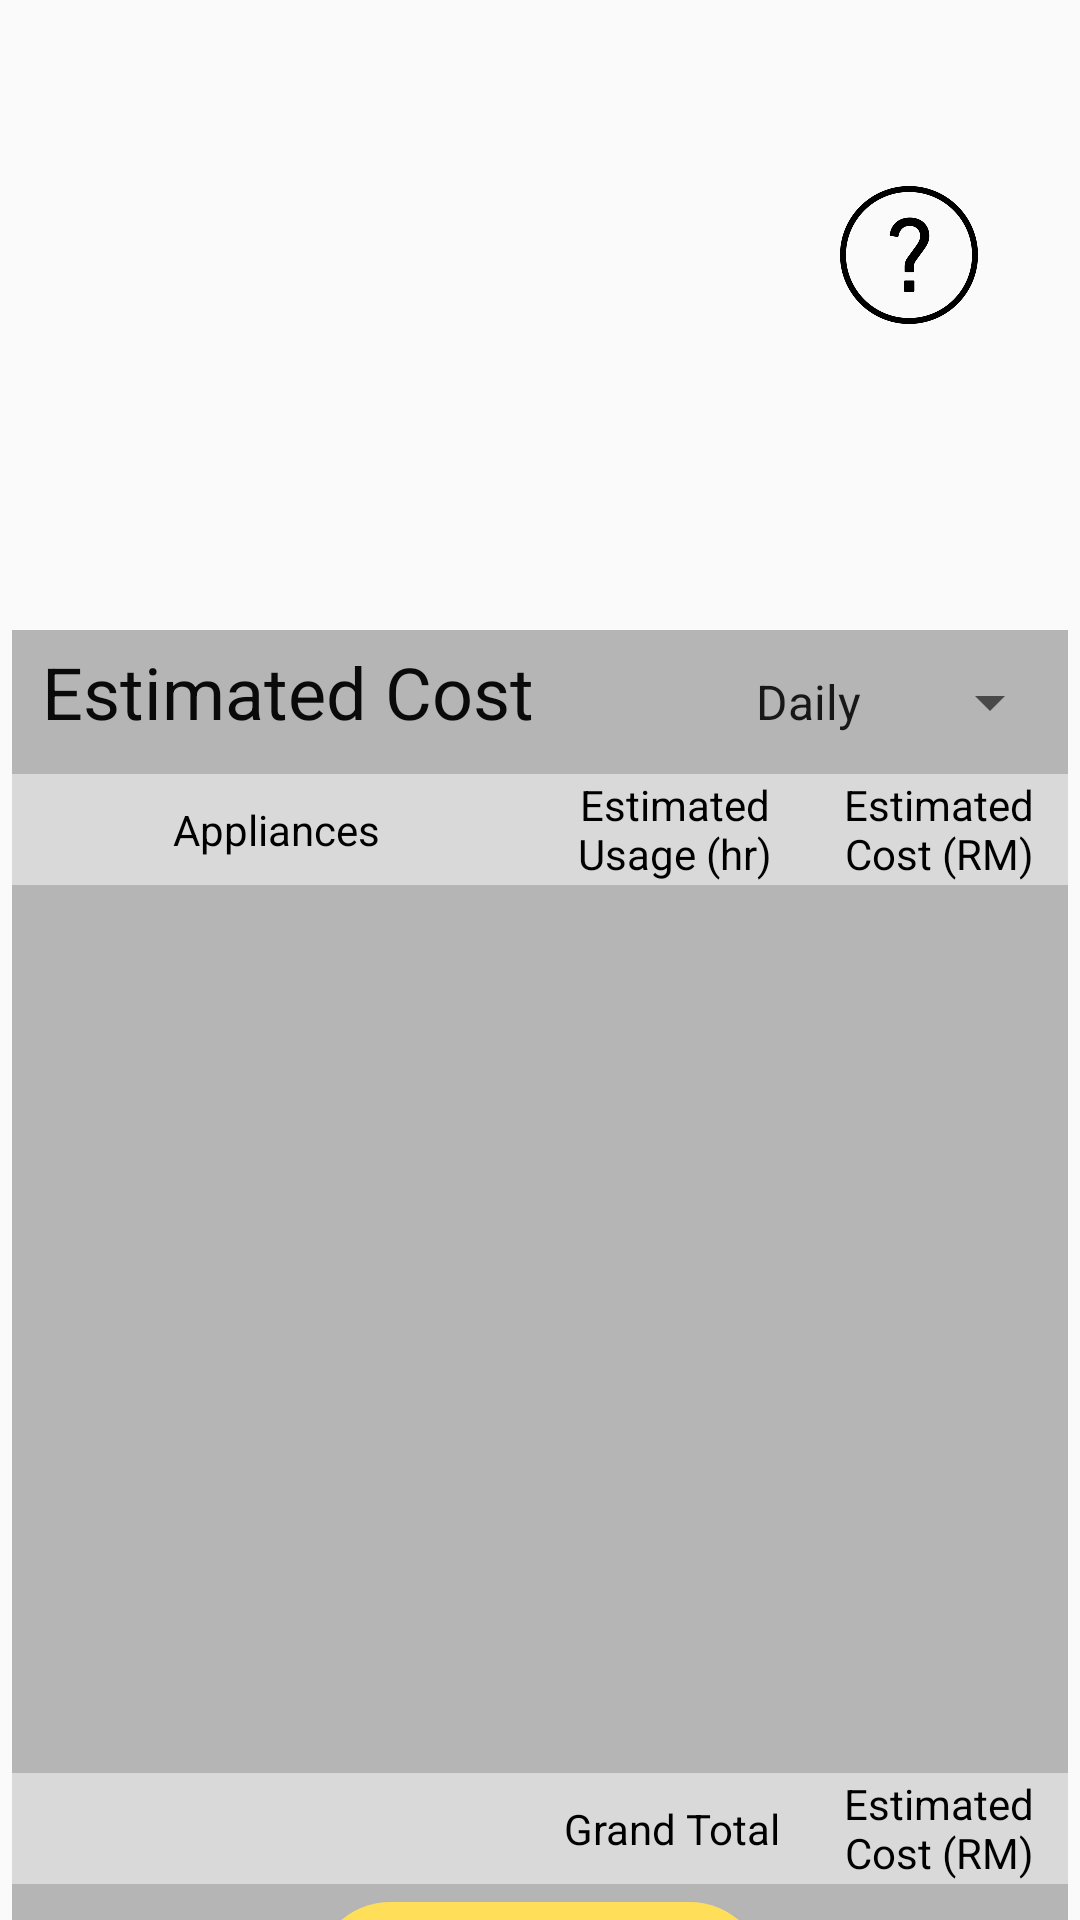

Icons on this 1080*1920 Android screen, each with the point to tap as (x=x, y=y):
helpbutton: (x=909, y=255)
